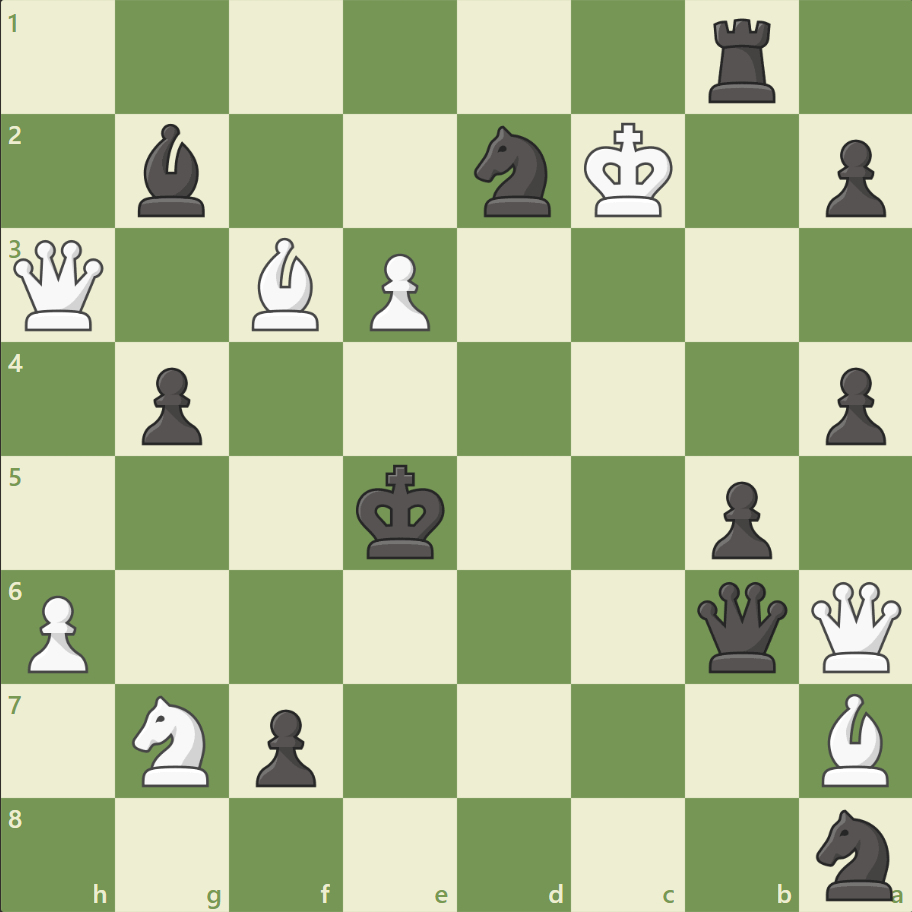B: (812, 687, 896, 790), (244, 233, 328, 336)
K: (579, 117, 679, 225)
N: (124, 688, 222, 791)
P: (20, 586, 95, 677), (361, 246, 435, 337)
Q: (805, 576, 904, 676), (10, 236, 109, 335)
b: (131, 120, 215, 222)
k: (351, 458, 451, 566)
n: (806, 802, 903, 904), (465, 121, 562, 223)
p: (247, 700, 322, 791), (701, 473, 776, 564), (133, 359, 208, 450), (815, 359, 889, 450), (815, 132, 889, 223)
q: (691, 576, 790, 676)
r: (700, 12, 783, 109)
